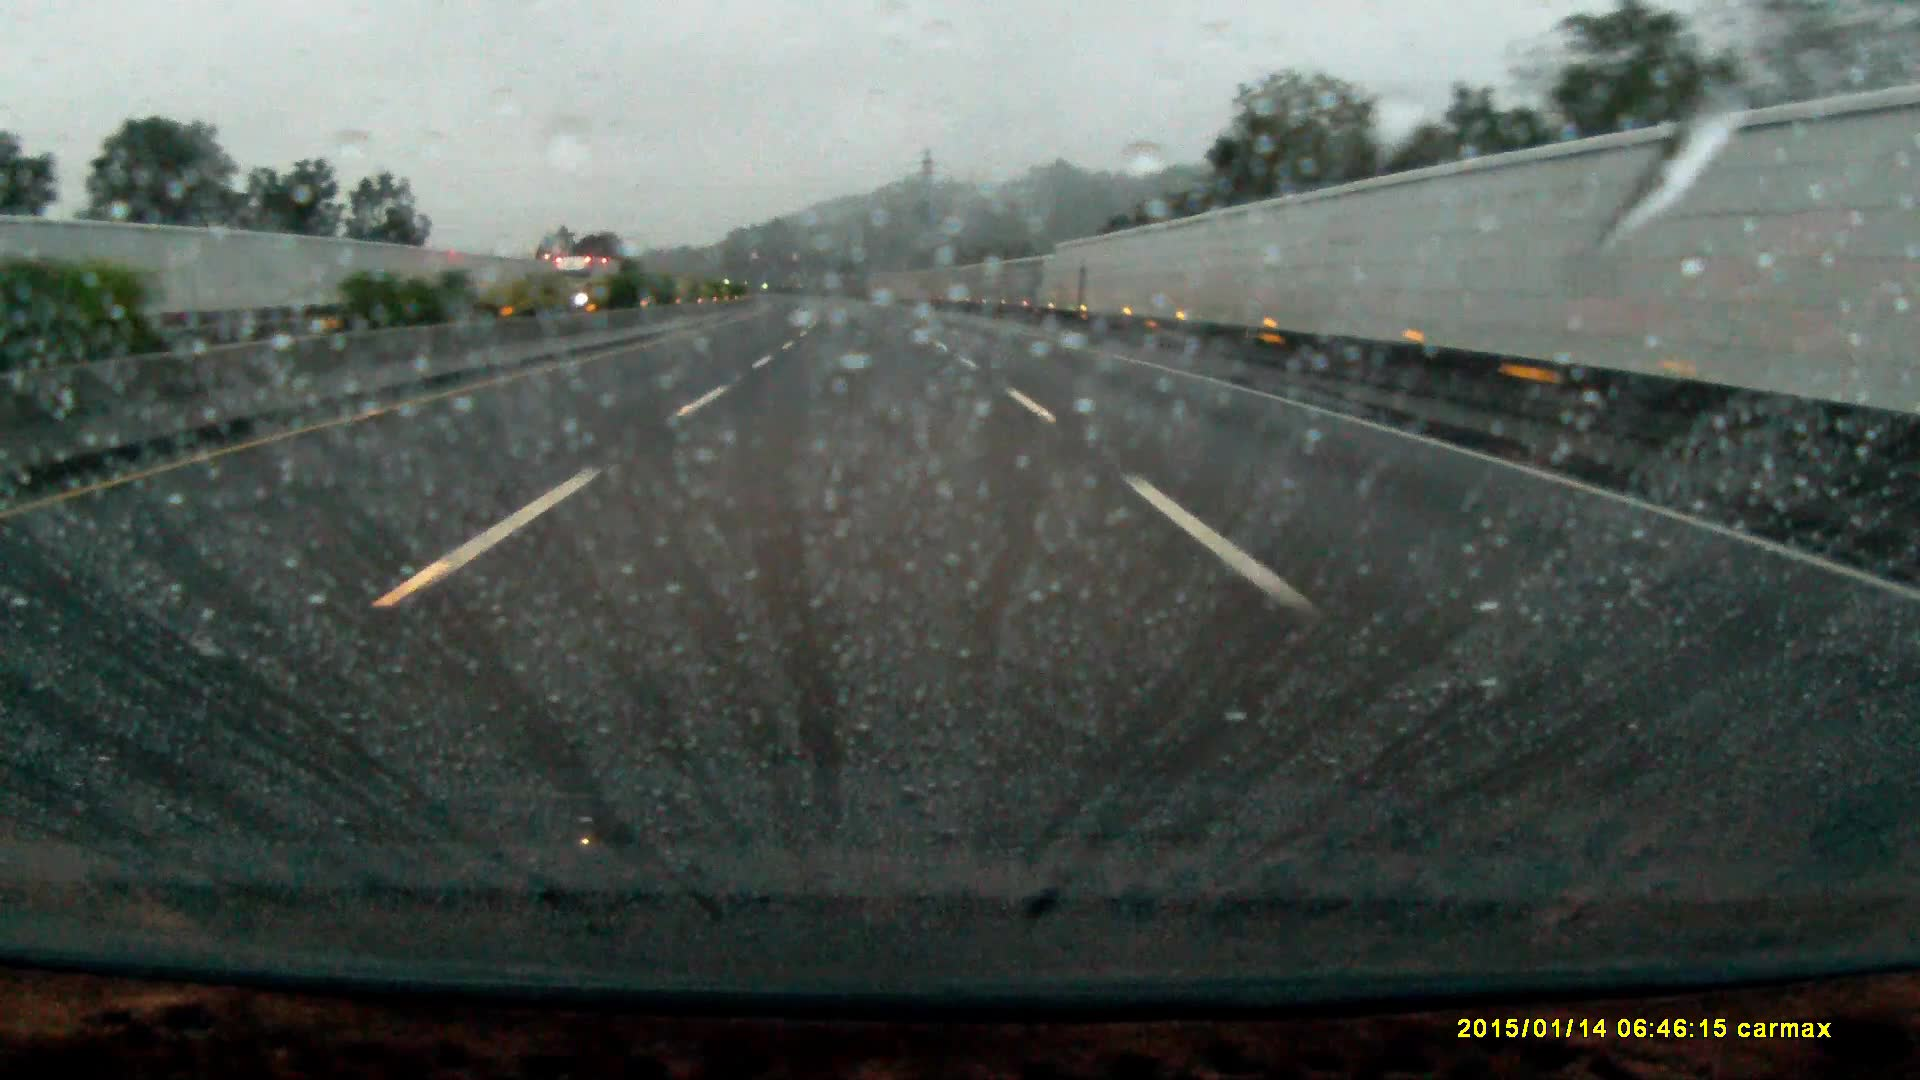vehicle: (554, 255, 621, 311)
